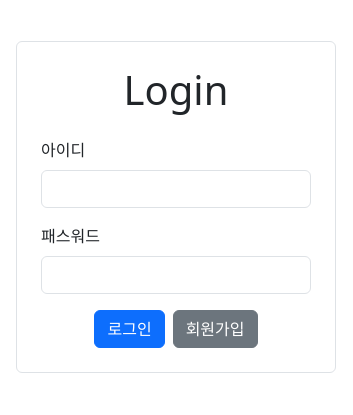
Test: LoginForm Component › should show validation error when username is empty
The width and height of the screenshot is (353, 415).
Click the button "로그인" at (130, 329), box [94,310,165,348]
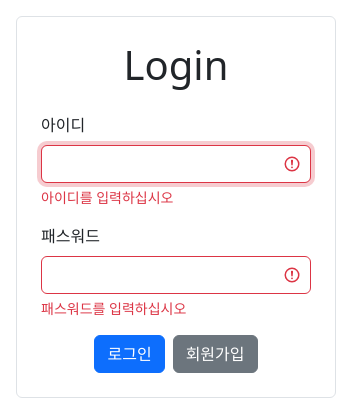
Expected: the text "아이디를 입력하십시오" is shown, [41,188,174,207]
